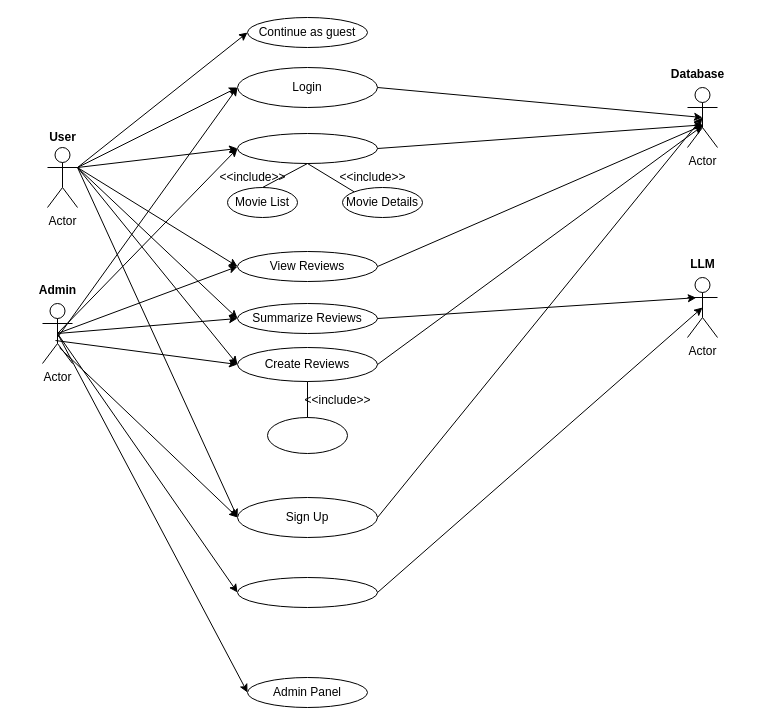
This 759x725 diagram has some shape labels left out. The shapes that lost their labels are listed below. From the top down, each one's box as (x1, y1, x2, y2) in pixels, then its label:
(236, 132, 378, 164): View Movies
(266, 416, 348, 454): Submit Review
(236, 576, 378, 608): Retrieve Reviews
